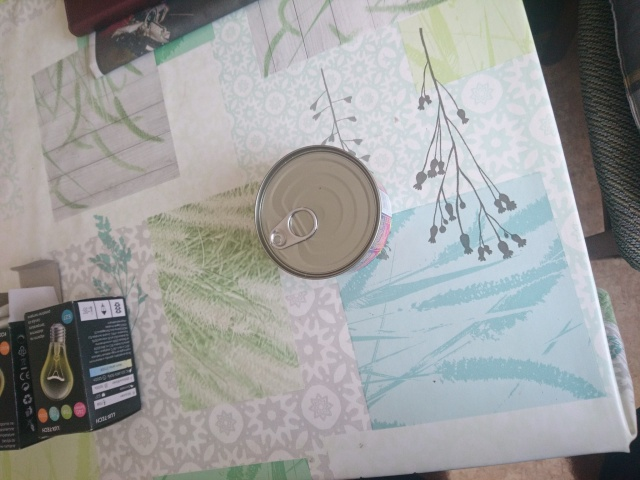Giana Tuna Salad Mexico 185g: (251, 141, 394, 282)
